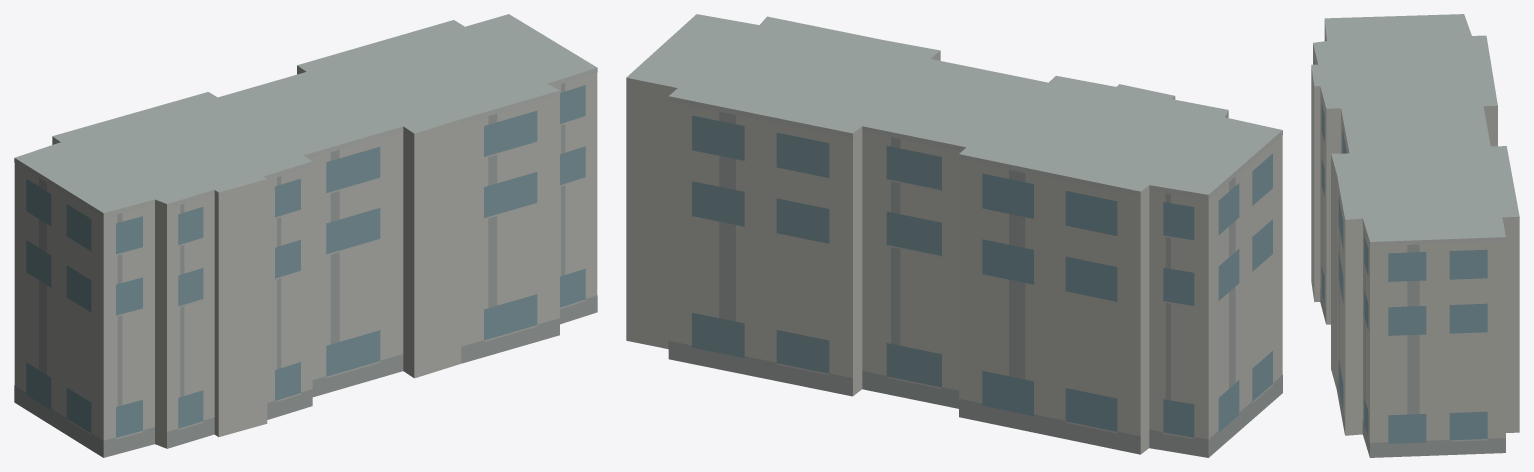
The model's file is survey-upis-32733340.glb.
3 views of the same model, side by side, from view 1: azimuth 30°, elevation 25°; view 2: azimuth 150°, elevation 25°; view 3: azimuth 270°, elevation 25° (orthographic). The views are drawn at different scales.
Visible parts, largest first — view 1: survey-upis-32733340.tmp; view 2: survey-upis-32733340.tmp; view 3: survey-upis-32733340.tmp.
Boxes of the visible parts, x1=… form: survey-upis-32733340.tmp: x1=14, y1=14, x2=597, y2=457; survey-upis-32733340.tmp: x1=626, y1=14, x2=1282, y2=457; survey-upis-32733340.tmp: x1=1311, y1=14, x2=1519, y2=457.
Size of the model in its own units: 27.64 by 12.2 by 10.68.
